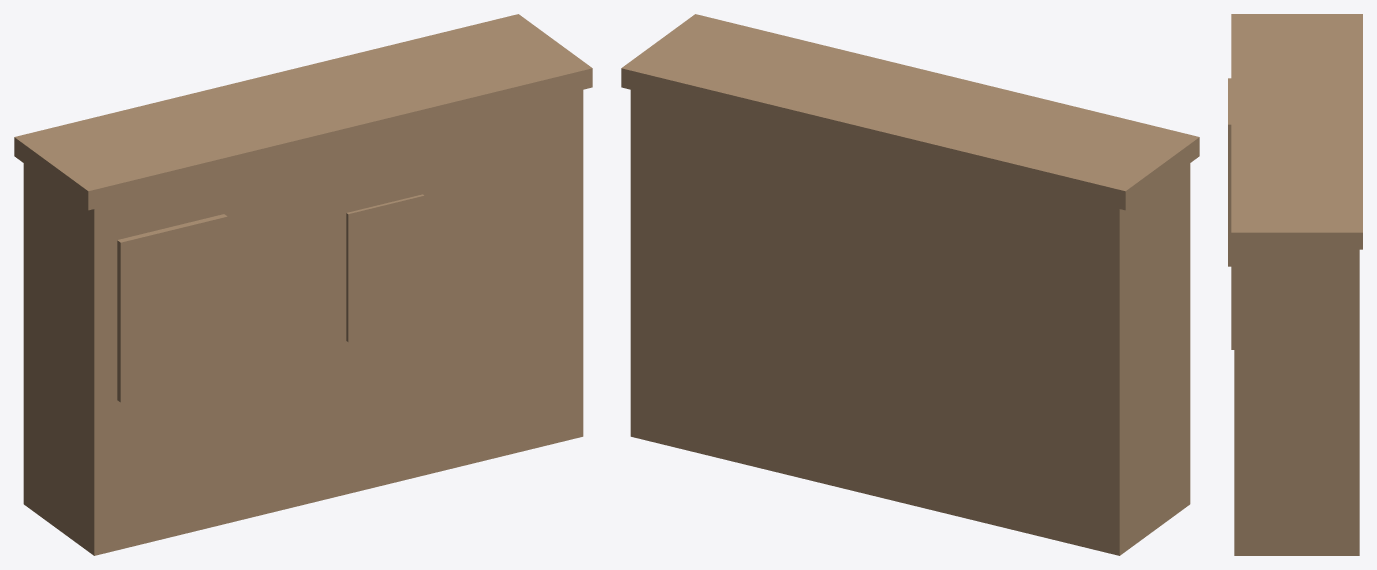
The model's file is sideboard.glb.
The picture shows the model from 3 angles, left to right: view 1: azimuth 30°, elevation 25°; view 2: azimuth 150°, elevation 25°; view 3: azimuth 270°, elevation 25°; orthographic projection. The views are drawn at different scales.
Parts seen in each view (by area): view 1: sideboard; view 2: sideboard; view 3: sideboard.
Boxes of the visible parts, x1,y1,x2,y2 form: sideboard: (14,14,592,555); sideboard: (621,14,1199,555); sideboard: (1228,14,1362,555).
Size of the model in its own units: 1.65 by 1.15 by 0.43.
